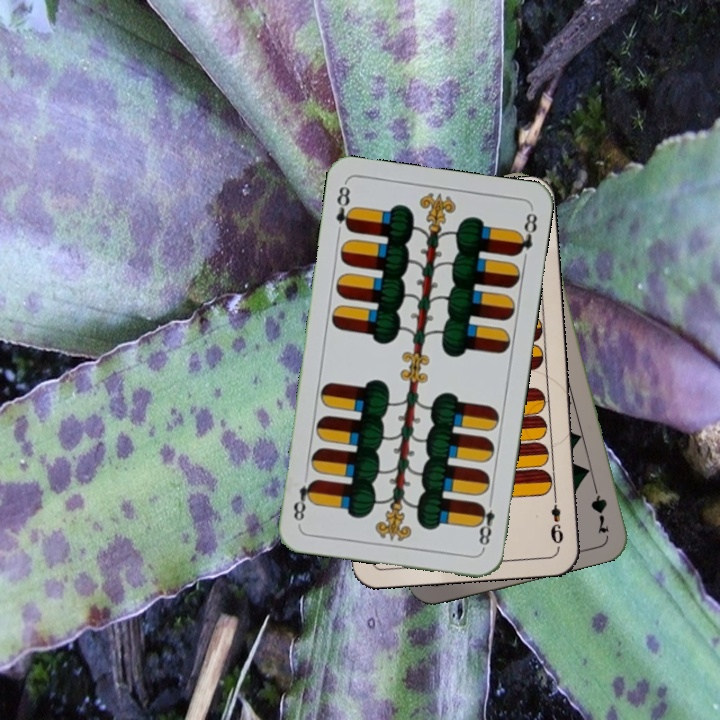E8: (472, 493, 497, 552), (332, 180, 357, 235)
E9: (546, 490, 566, 546)
G7: (586, 477, 612, 536)
